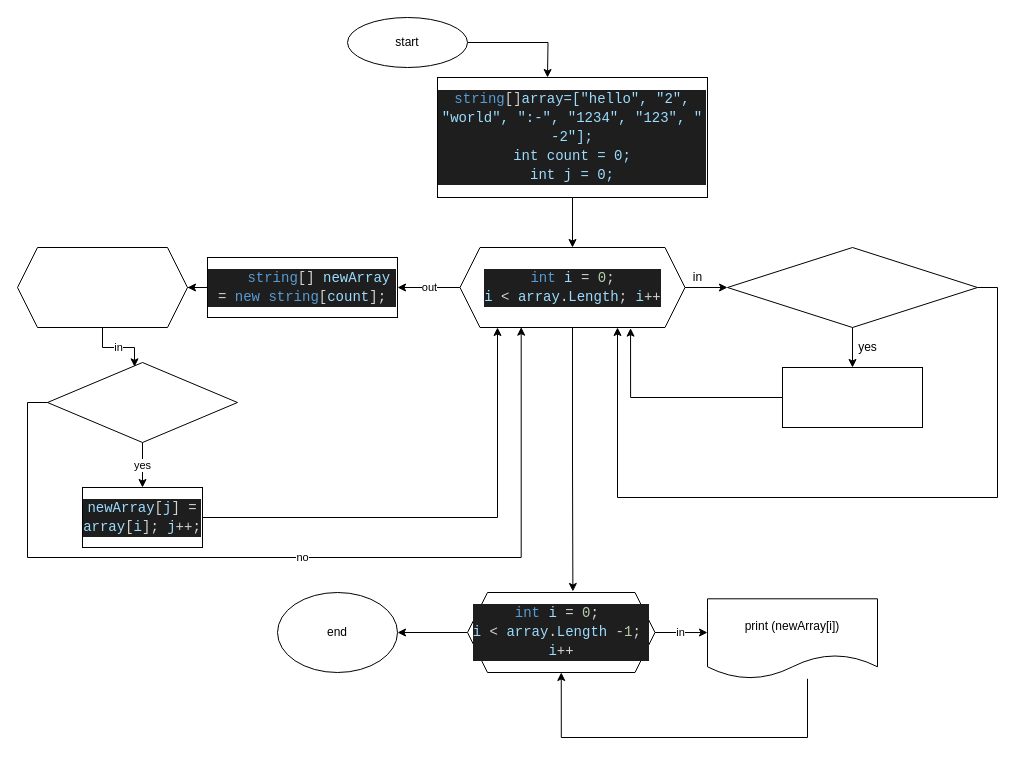
Some shapes in this 1023 by 763 pixel diagram are drawn without their labels. Each missing label, with the box of its shape:
( int i = 0 ; i < array . Length ; i ++: (16, 246, 188, 328)
array [ i ]. Length <= 3: (726, 246, 978, 328)
array [ i ]. Length <= 3;: (46, 362, 238, 442)
count ++;: (782, 366, 922, 428)
